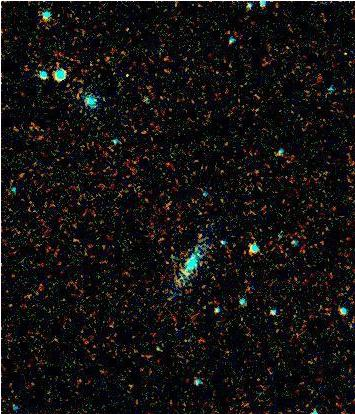star: (185, 226, 215, 256)
